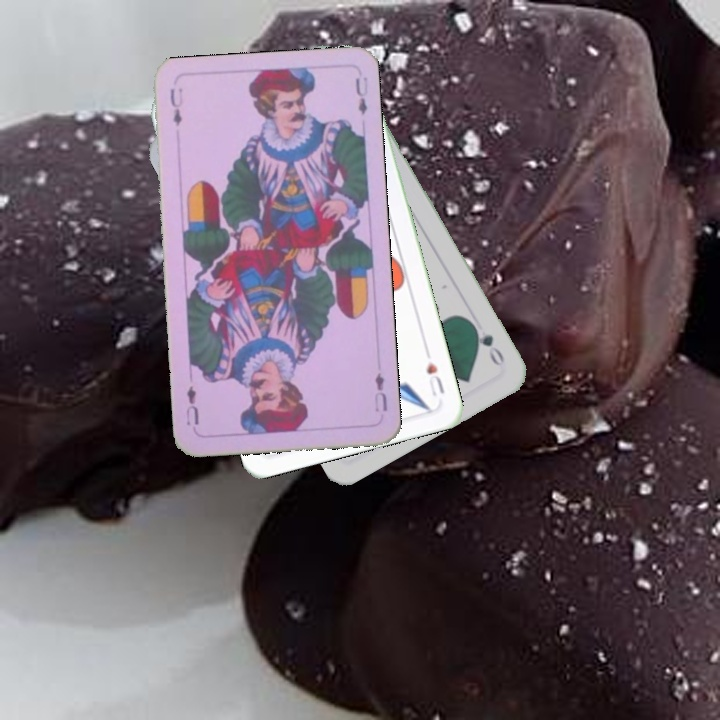EU: (370, 368, 390, 415), (166, 84, 185, 129)
GO: (468, 319, 508, 371)
HU: (422, 357, 447, 399)
